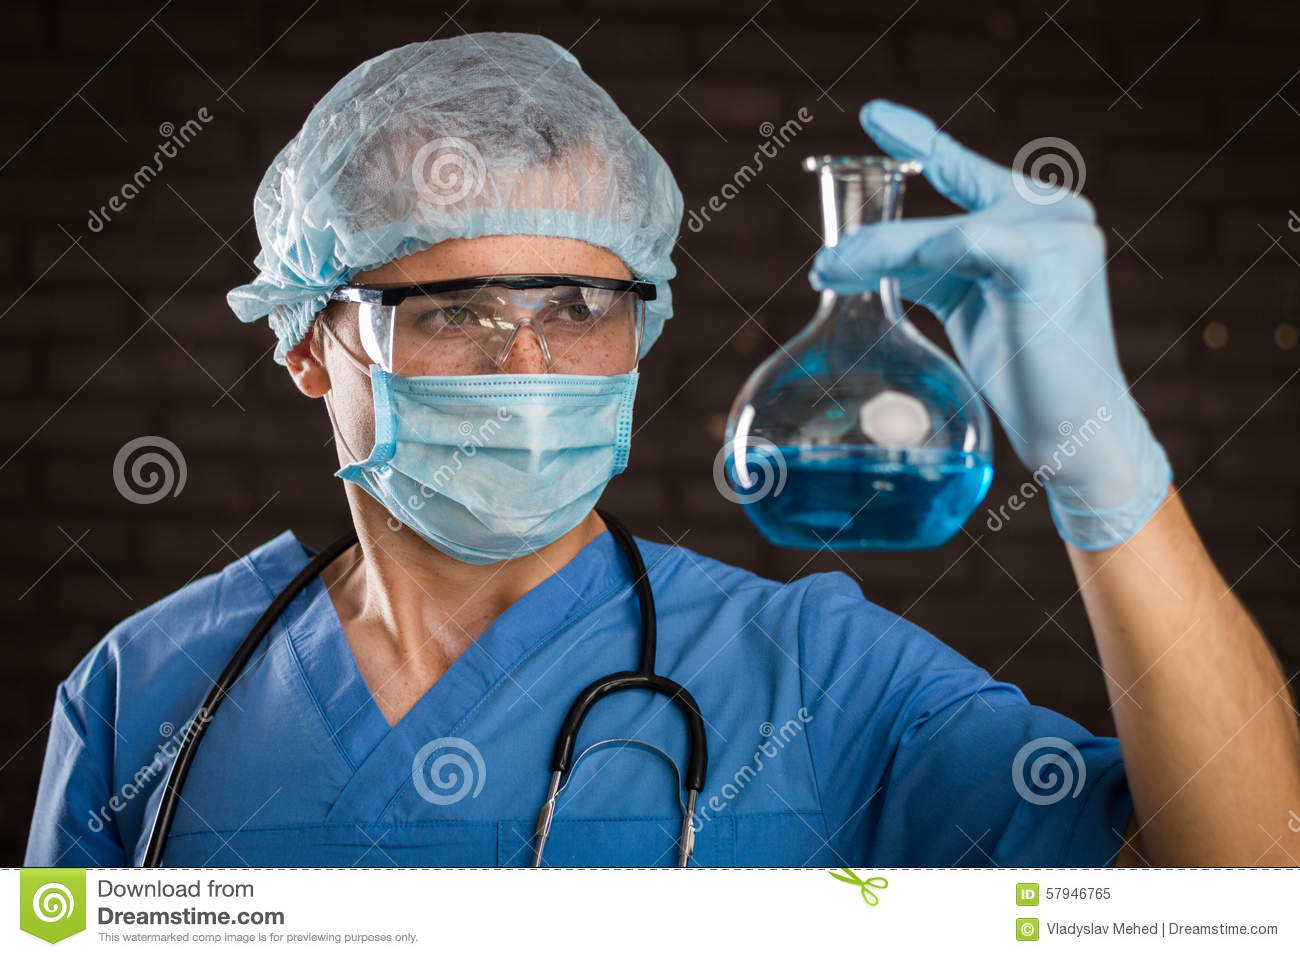mask: (340, 369, 642, 568)
